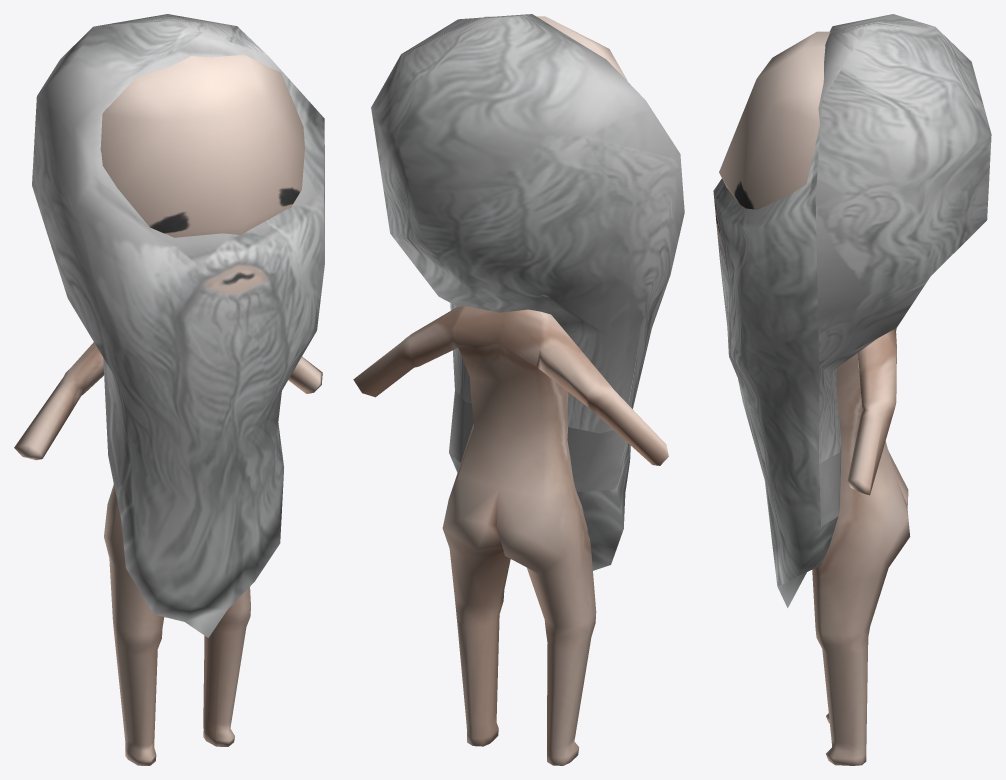
The model's file is olmsn.fbx.
The picture shows the model from 3 angles, left to right: view 1: azimuth 30°, elevation 25°; view 2: azimuth 150°, elevation 25°; view 3: azimuth 270°, elevation 25°; orthographic projection. The views are drawn at different scales.
Parts seen in each view (by area): view 1: polySurface4; view 2: polySurface4; view 3: polySurface4.
Part boxes in pixels (bbox=[...]): polySurface4: bbox=[14, 14, 324, 765]; polySurface4: bbox=[353, 14, 684, 765]; polySurface4: bbox=[713, 14, 991, 765].
Size of the model in its own units: 0.8919 by 1.99 by 0.702.
Materials: 1 (1 with a texture image).
